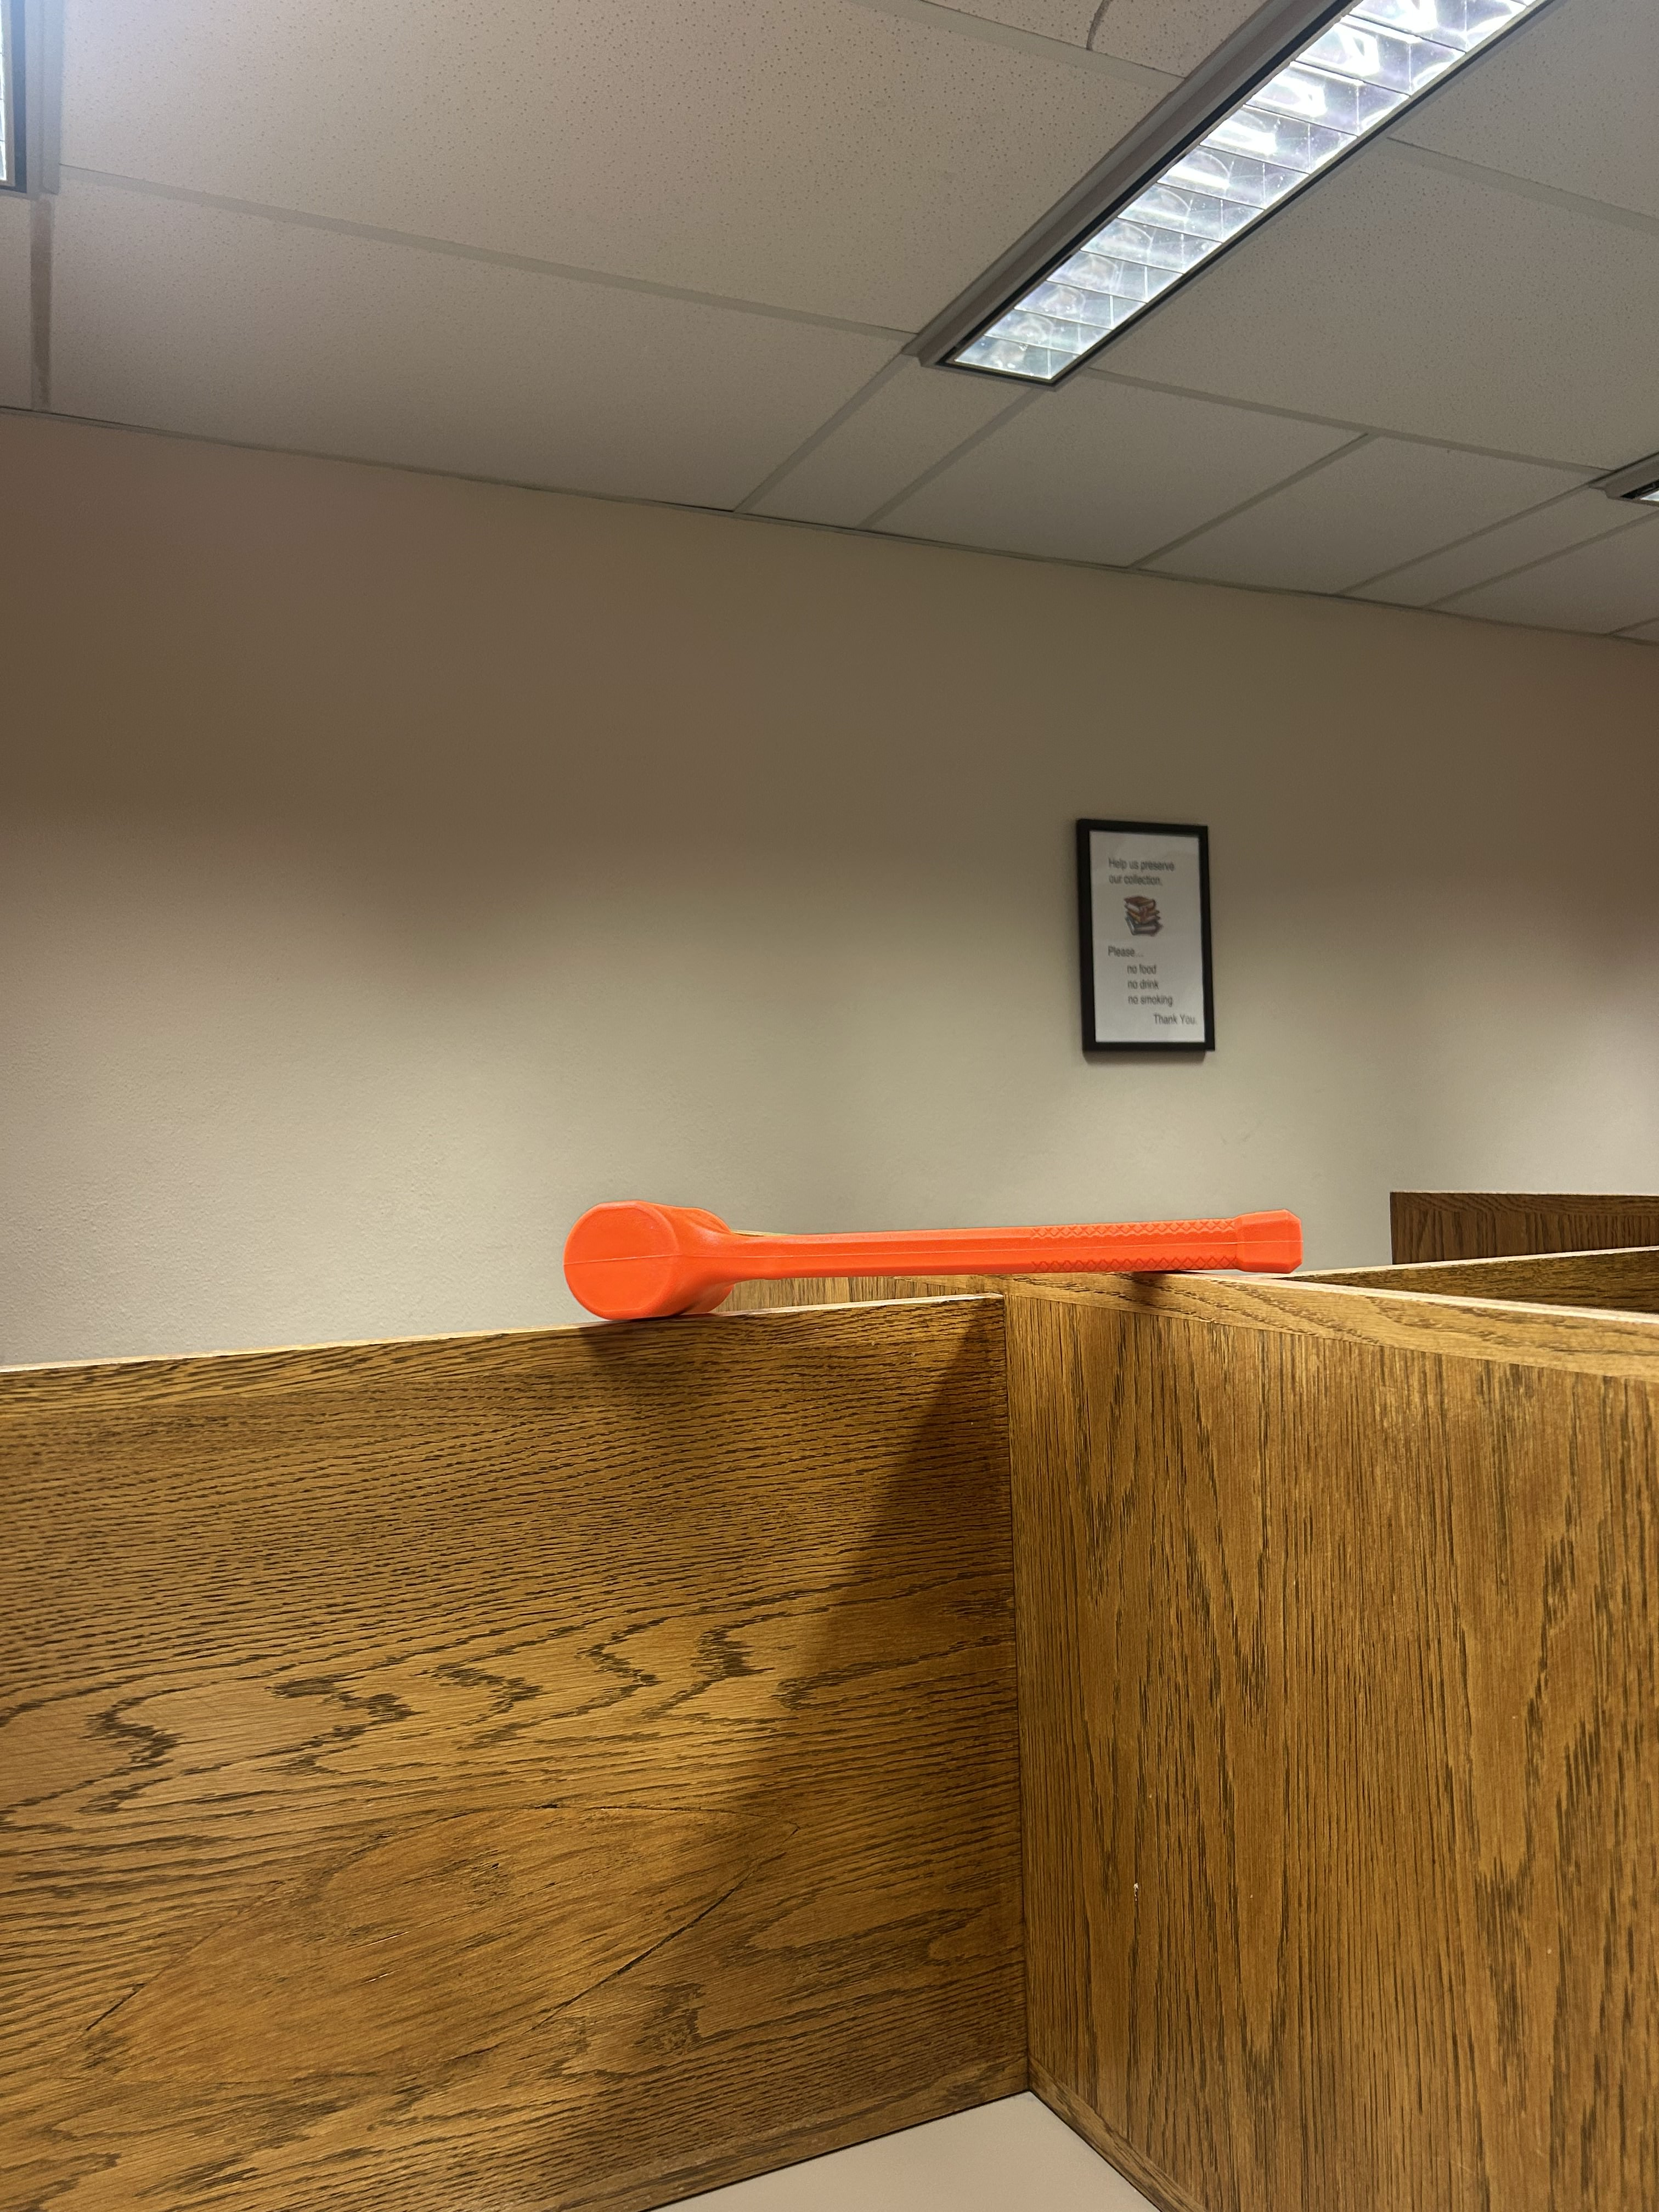Hammer: (545, 1165, 1347, 1350)
